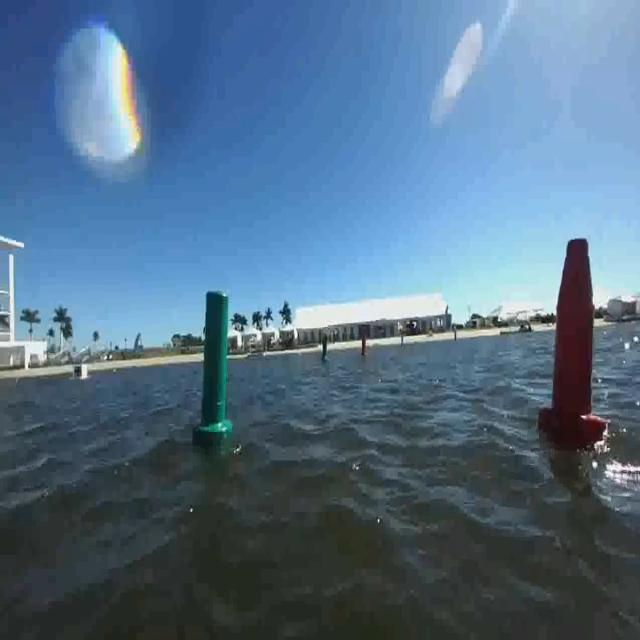green-column-buoy: (197, 283, 234, 439)
red-column-buoy: (538, 230, 606, 448)
